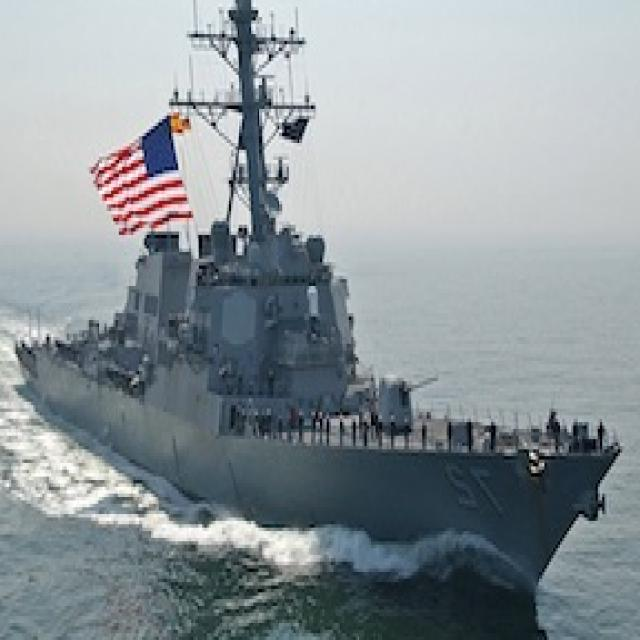navalvessels: (0, 20, 631, 602)
